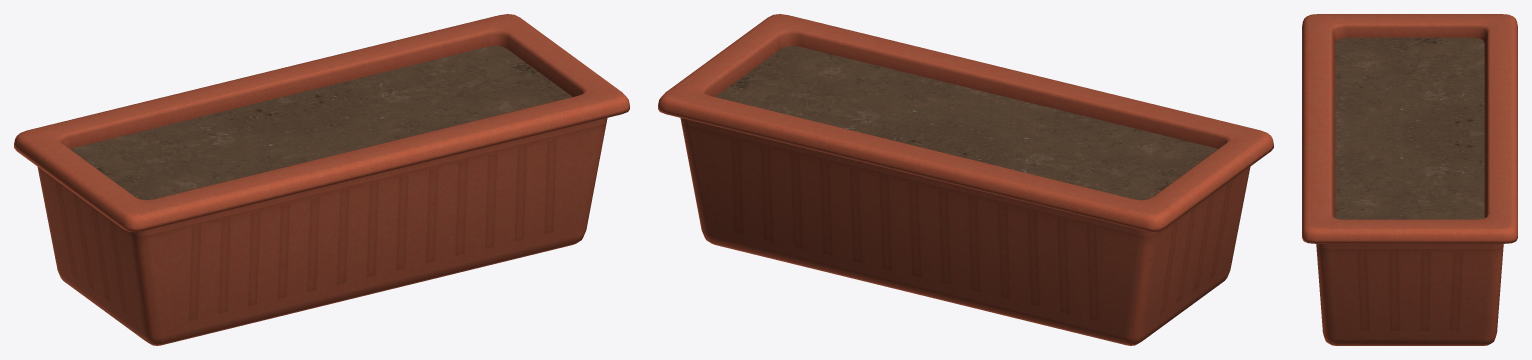
The model's file is GardenPot03_1.FBX.
The picture shows the model from 3 angles, left to right: view 1: azimuth 30°, elevation 25°; view 2: azimuth 150°, elevation 25°; view 3: azimuth 270°, elevation 25°; orthographic projection. The views are drawn at different scales.
Parts seen in each view (by area): view 1: GardenPot03_1; view 2: GardenPot03_1; view 3: GardenPot03_1.
Boxes of the visible parts, x1,y1,x2,y2 form: GardenPot03_1: (14,14,629,345); GardenPot03_1: (658,14,1273,345); GardenPot03_1: (1302,14,1517,345).
Size of what is drawn, in the model's own units: 1.1 by 0.3098 by 0.4552.
